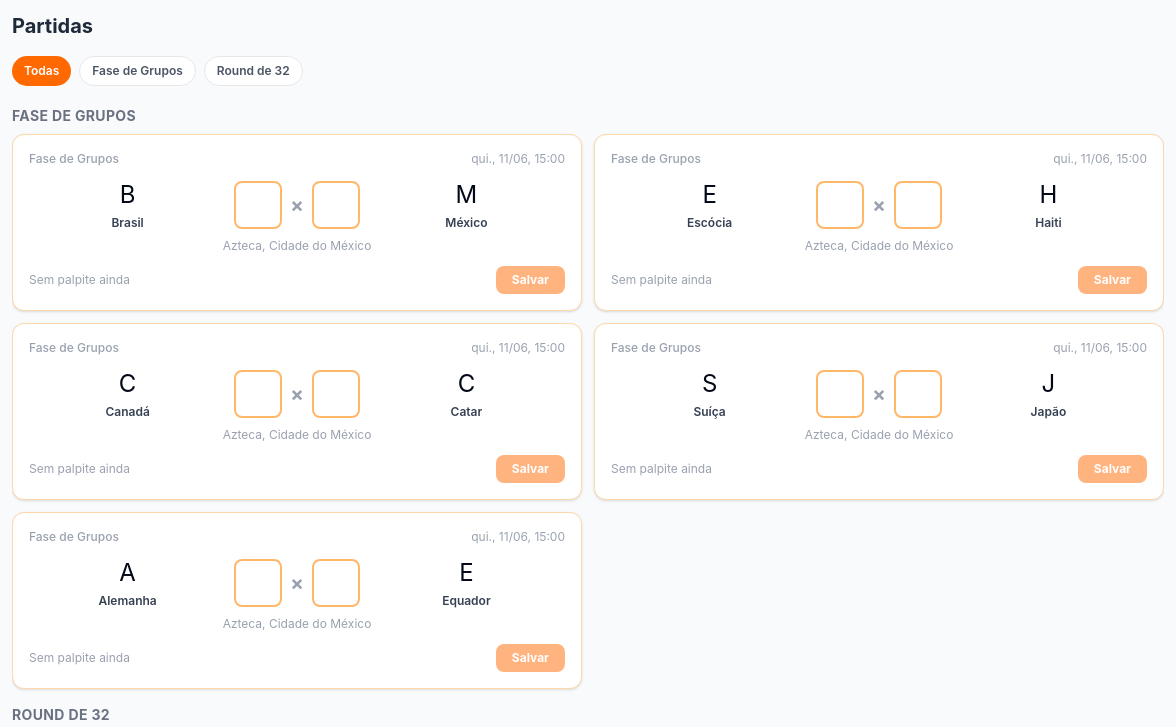
Scenario: MatchesPage › hides toggle and resets grouping when switching away from group phase
Check: the text "Brasil" is shown, box [111,215,144,230]
What coordinates should you click on to do the following:
click the button "Fase de Grupos"
I would click on:
 (138, 71)
Its box is [79,56,196,86].
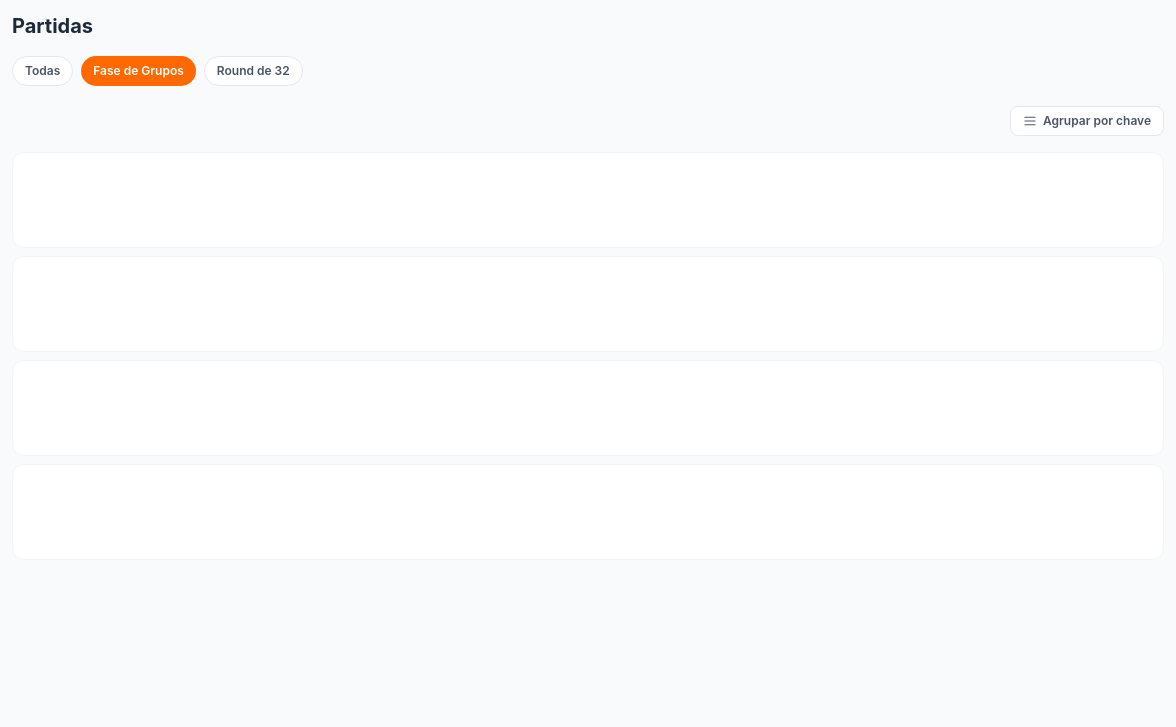
Check: the button "Agrupar por chave" is shown
What coordinates should you click on to do the following:
click the button "Agrupar por chave"
I would click on:
 (1087, 121)
Its box is [1010,106,1164,136].
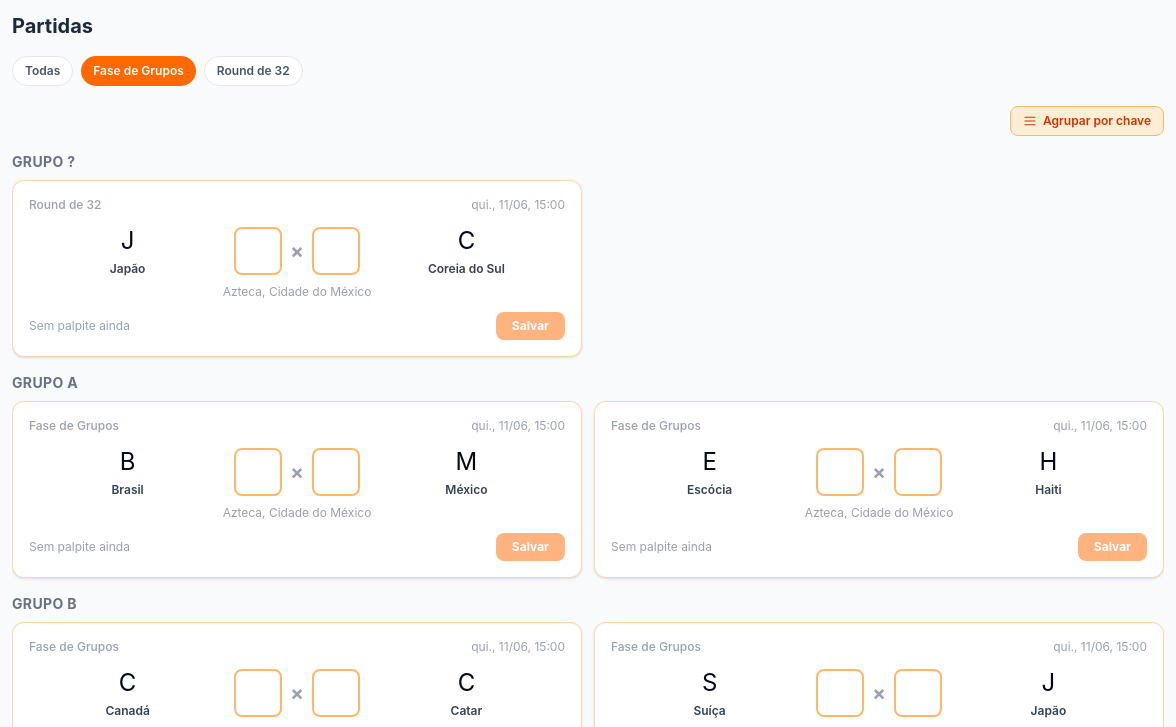
What coordinates should you click on to do the following:
click the button "Todas"
I would click on:
 (43, 71)
Its box is [12,56,73,86].
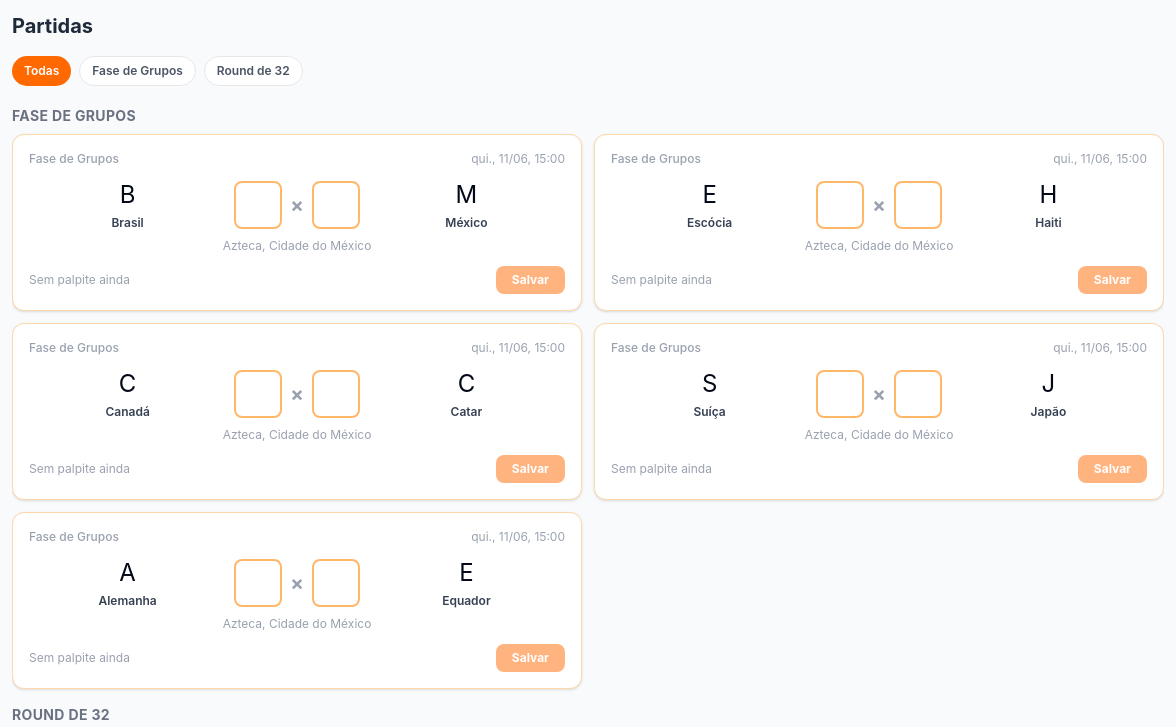
Check: the button "Agrupar por chave" is gone
